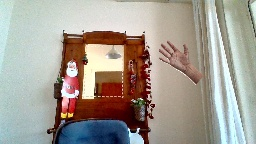Mano_aperta: (156, 38, 191, 70)
